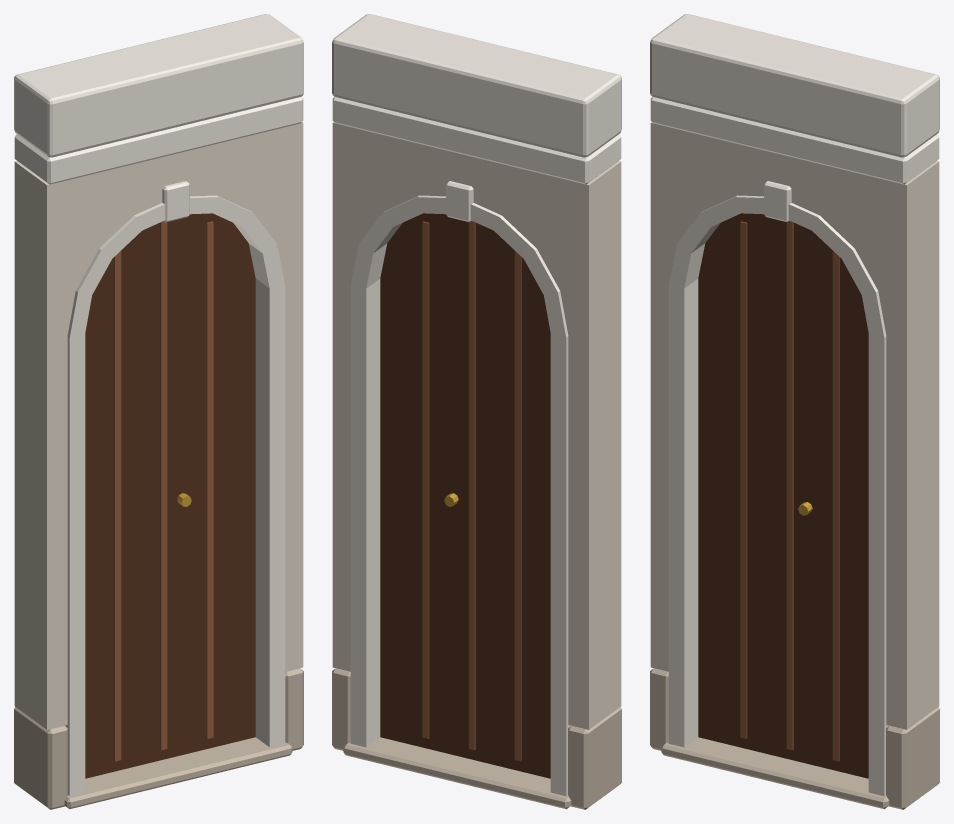
File: parede_igreja_porta.glb
3 renders of one model, left to right at view 1: azimuth 30°, elevation 25°; view 2: azimuth 150°, elevation 25°; view 3: azimuth 330°, elevation 25°, orthographic.
Visible parts, largest first — view 1: parede_igreja_porta; view 2: parede_igreja_porta; view 3: parede_igreja_porta.
Part boxes in pixels (left/top/right/bottom): parede_igreja_porta: left=14, top=14, right=303, bottom=809; parede_igreja_porta: left=332, top=14, right=621, bottom=809; parede_igreja_porta: left=650, top=14, right=939, bottom=809.
Bounding box in the file's own units: 1 × 2.65 × 0.3.
